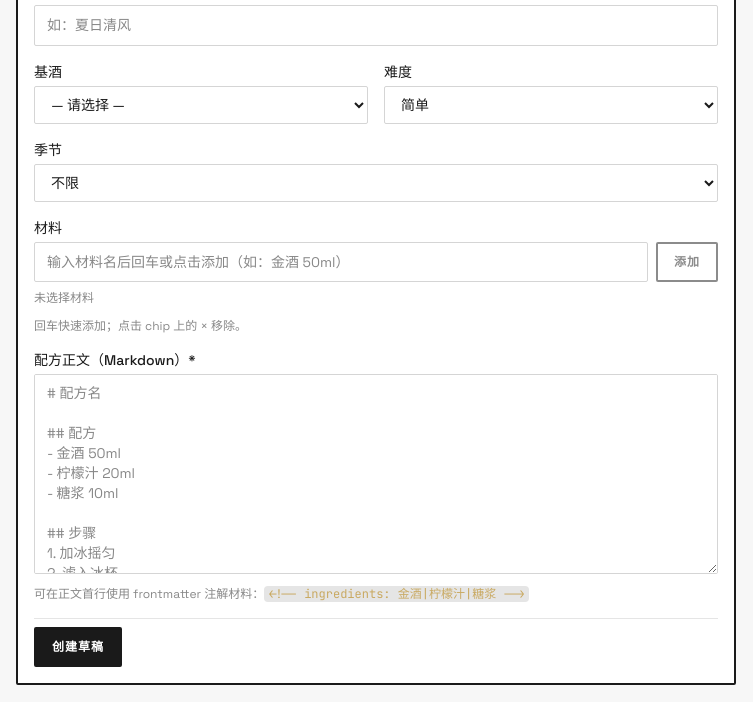
Test: RecipeEditorPanel › 校验：标题或正文为空时提示必填
(page scrolled)
Step 1. Click the button "创建草稿" → (78, 647), box [34,627,122,667]
(page scrolled)
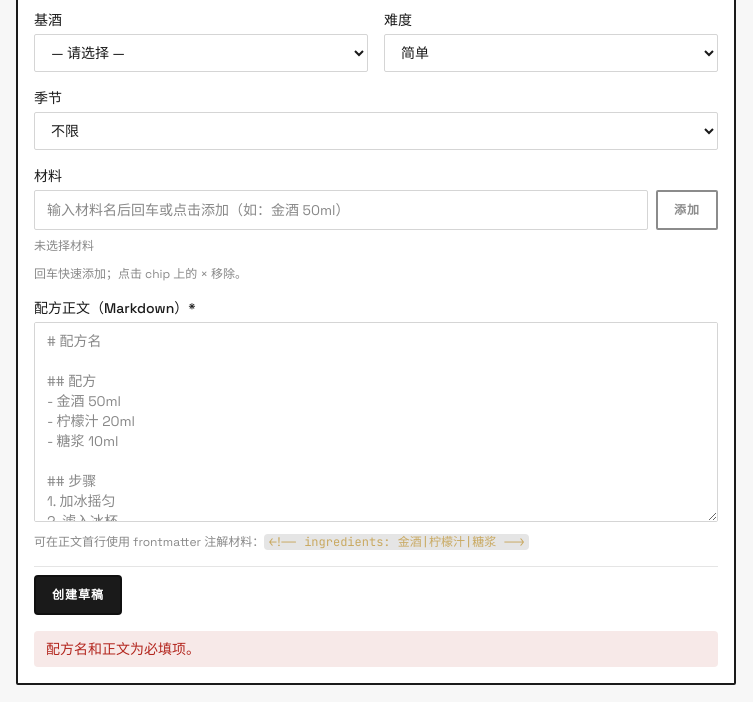
Result: the text "配方名和正文为必填项。" is shown at [34,631,718,667]
